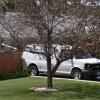Car: (21, 36, 100, 79)
